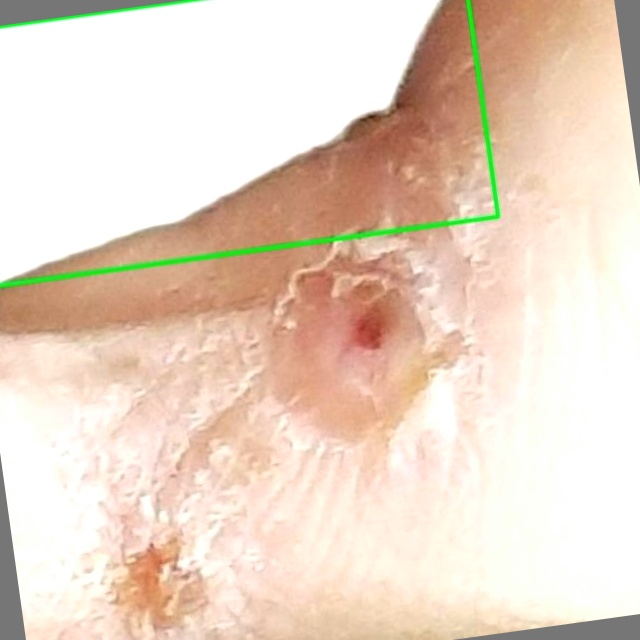Contact Dermatitis: (0, 0, 498, 285)
